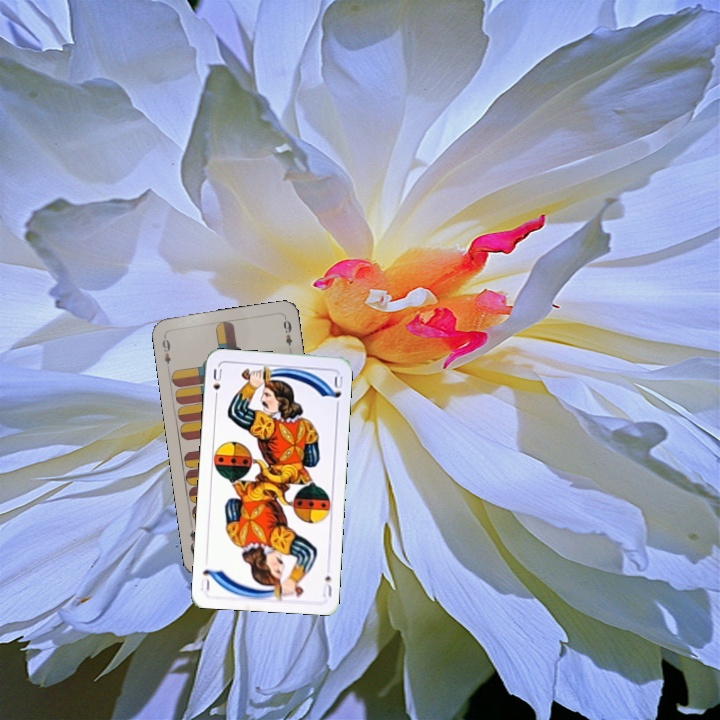E9: (158, 332, 173, 372)
SU: (209, 365, 224, 404), (319, 571, 334, 599)
